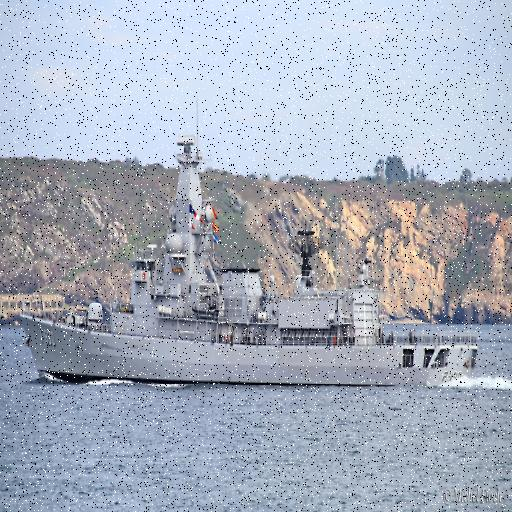Fragata: (17, 135, 482, 393)
